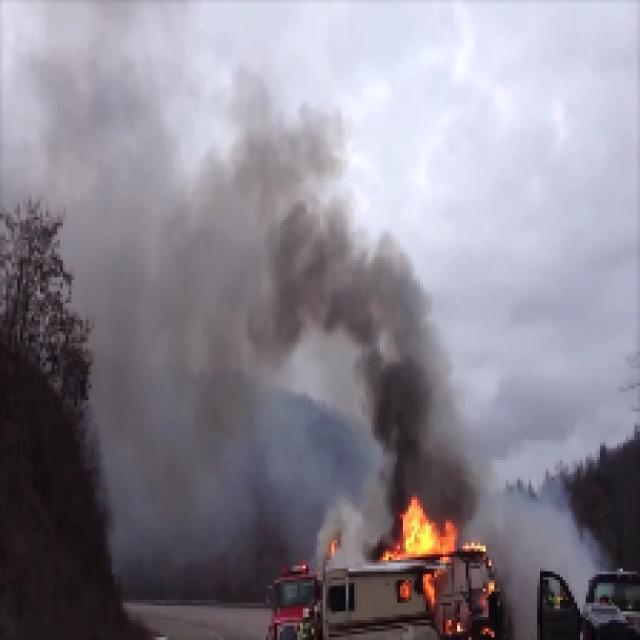Fire: (397, 508, 450, 556)
Smoke: (82, 187, 297, 335), (348, 295, 443, 472)
